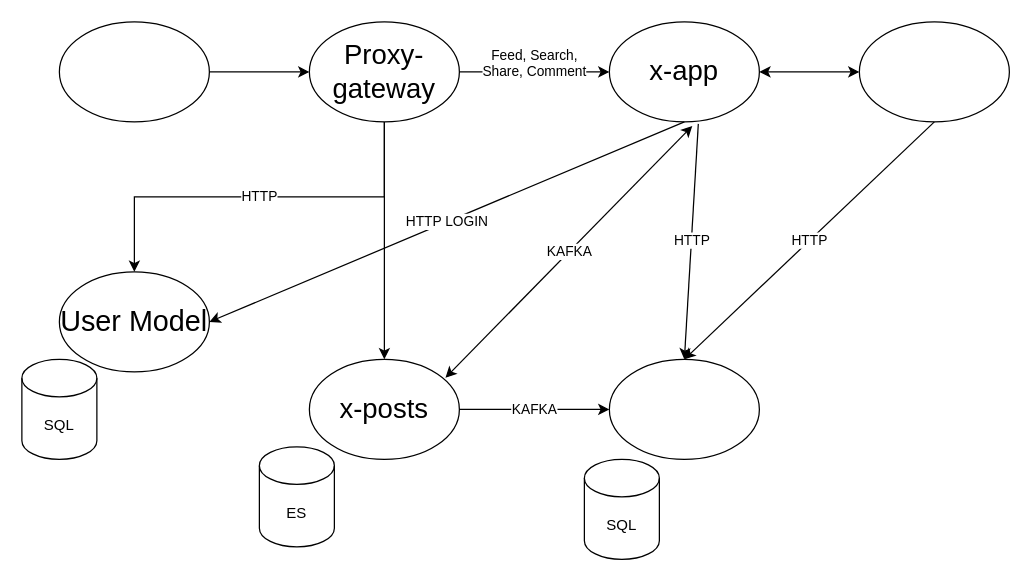
Some shapes in this 1031 by 581 pixel diagram are drawn without their labels. The shapes that lost their labels are listed below. From the top down, each one's centre as x and y in pixels, then its label:
the point at 133,71: Frontend
the point at 933,71: x-feed
the point at 683,408: x-post-metrics
